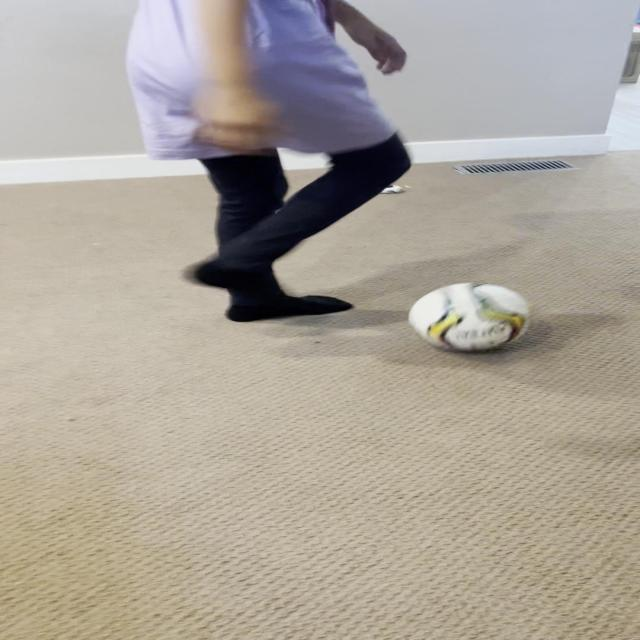Soccer Ball: (409, 284, 533, 353)
